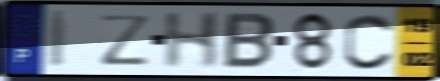8: (290, 10, 337, 73)
B: (221, 11, 276, 71)
C: (341, 12, 397, 72)
H: (162, 10, 224, 71)
I: (48, 9, 71, 70)
Z: (98, 13, 154, 67)
